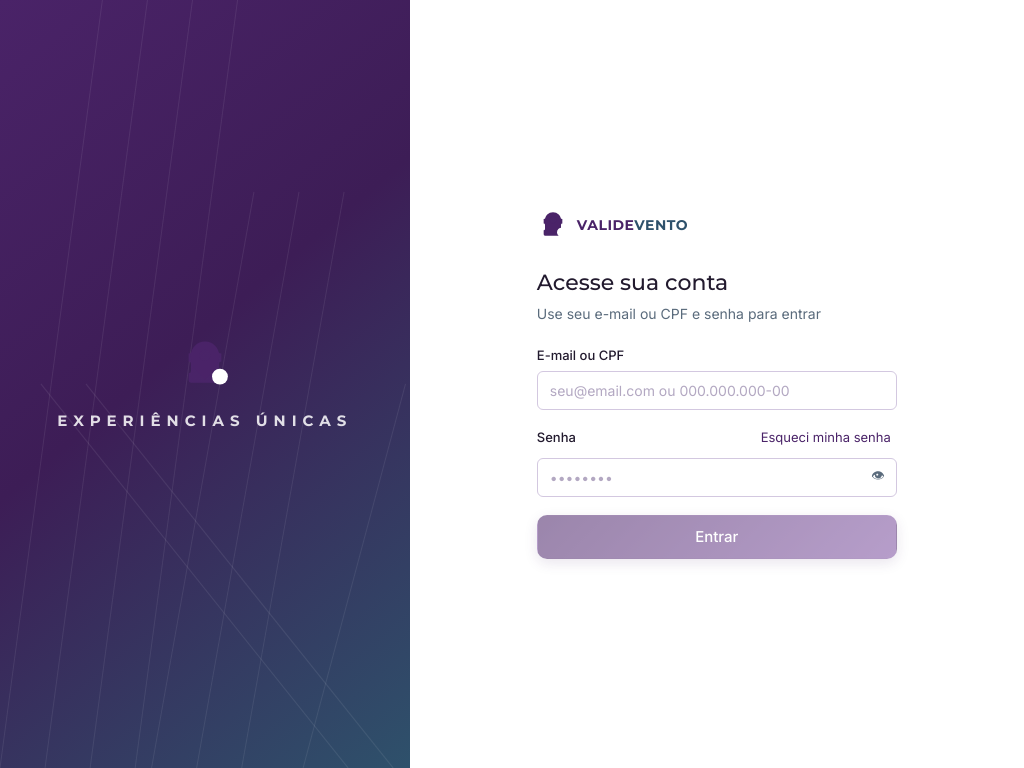
Test: Login › T-login-2: erro email_not_verified exibe mensagem correta
This screenshot has width=1024, height=768.
Type "11122233344" into the field labelled "E-mail ou CPF" at (717, 391), box [537, 371, 897, 410]
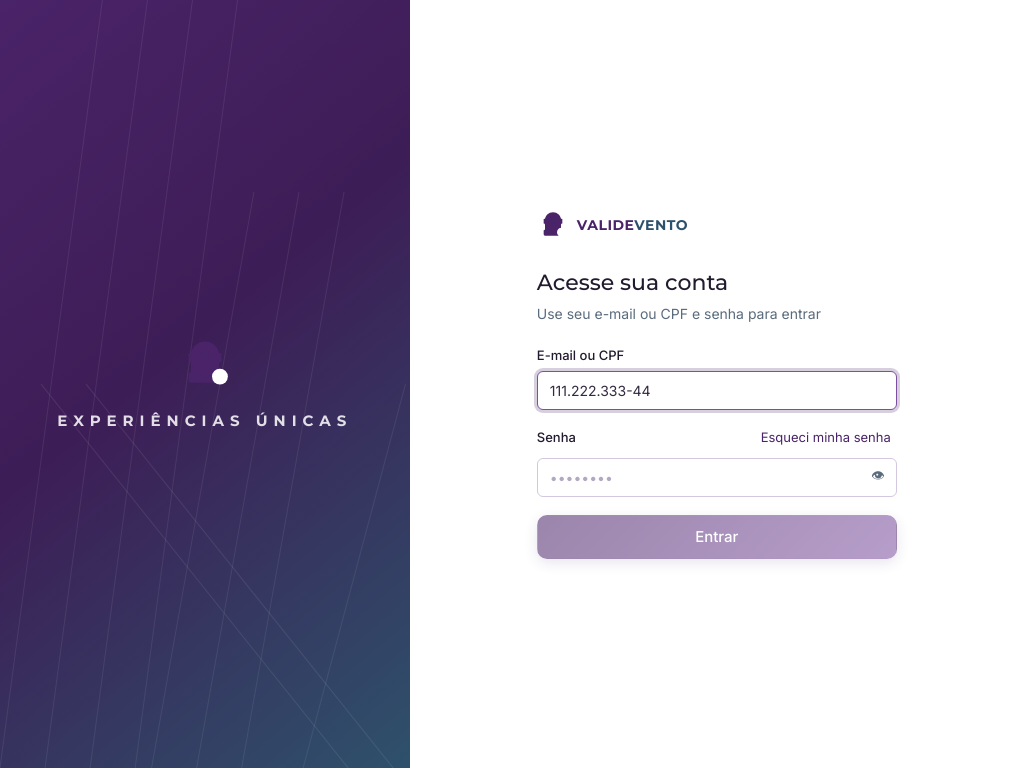
Type "segredo123" into the password field labelled "Senha" at (717, 477), box [537, 458, 897, 497]
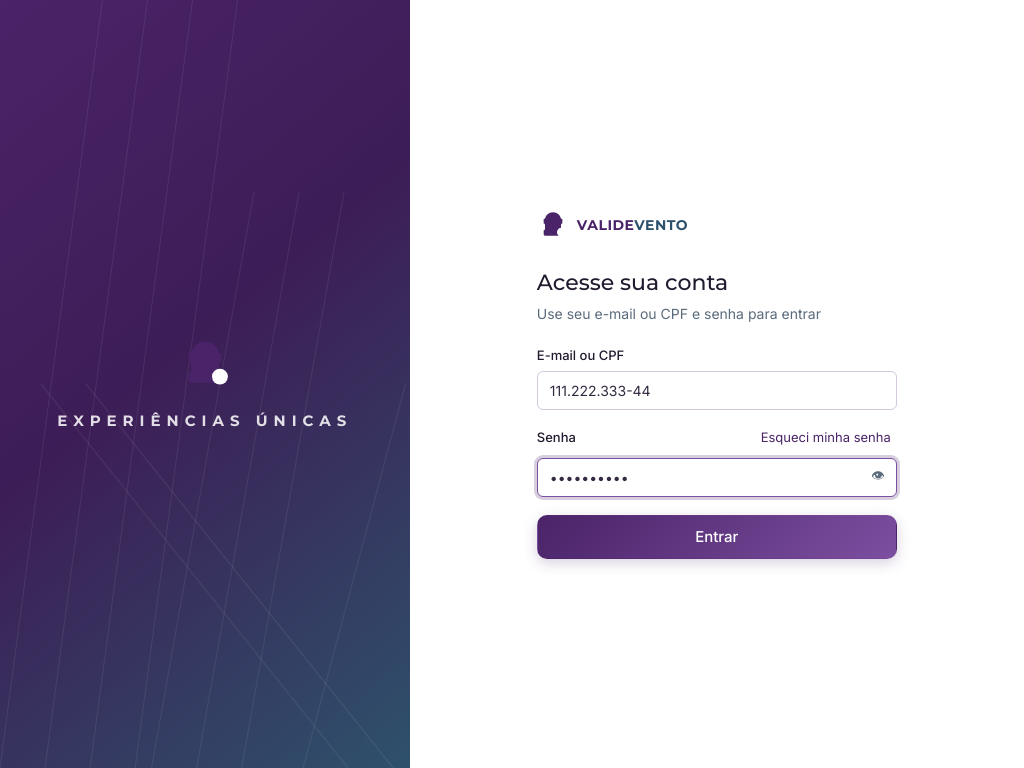
Click the button "Entrar" at (717, 537), box [537, 515, 897, 559]
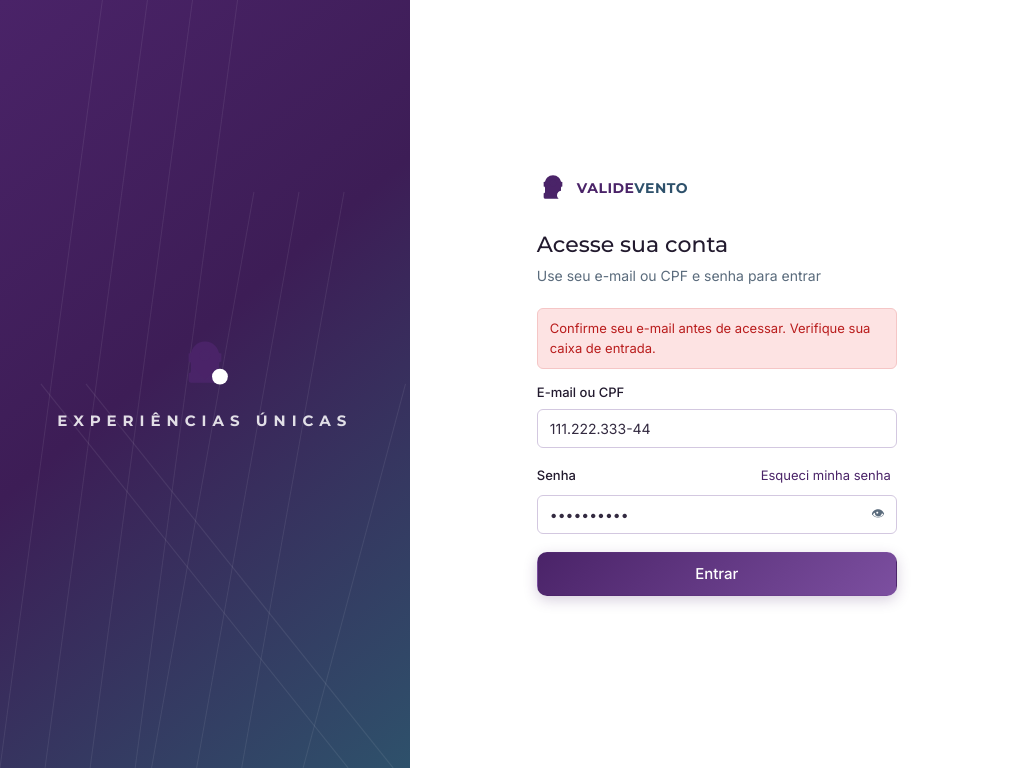
Now the text "Confirme seu e-mail antes de acessar. Verifique sua caixa de entrada." is shown, box [537, 308, 897, 369]
